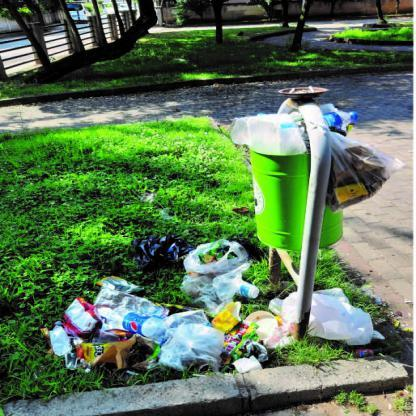Garbage: (37, 278, 221, 376), (177, 238, 264, 310), (321, 282, 388, 358), (226, 294, 289, 370), (334, 132, 393, 204), (234, 109, 302, 153), (326, 102, 363, 129)
